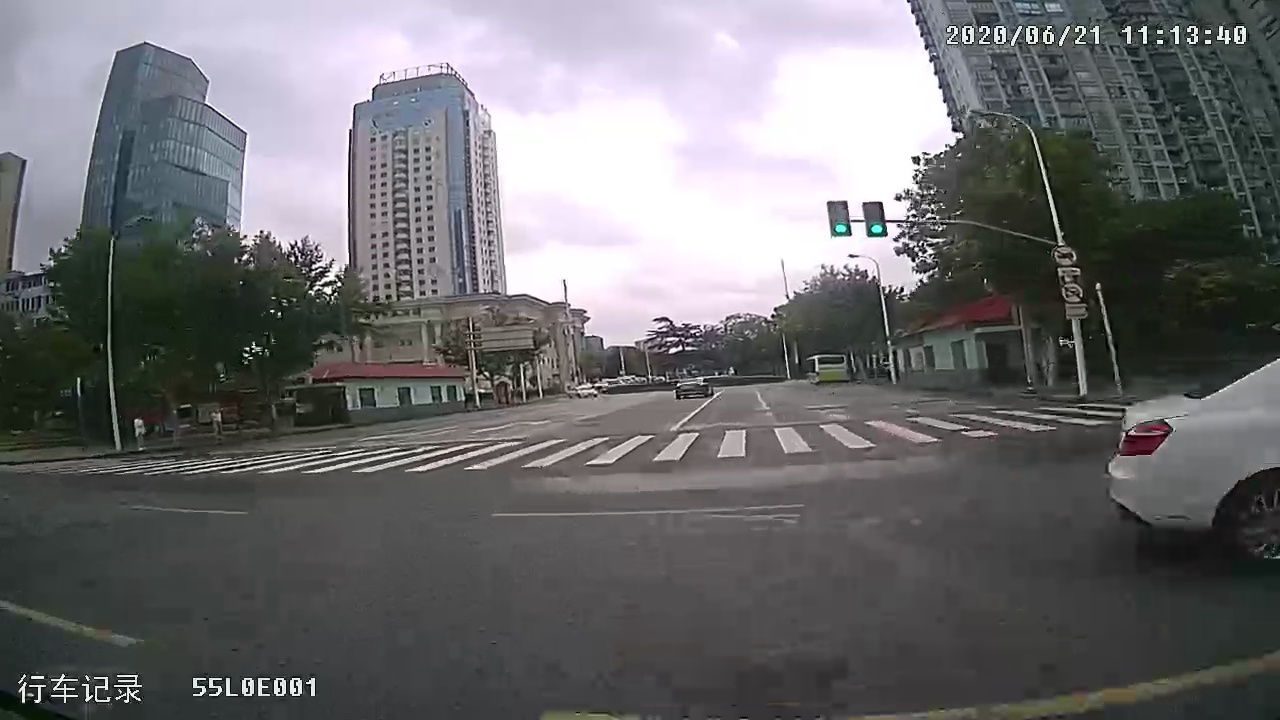crosswalk: (242, 409, 1118, 473)
